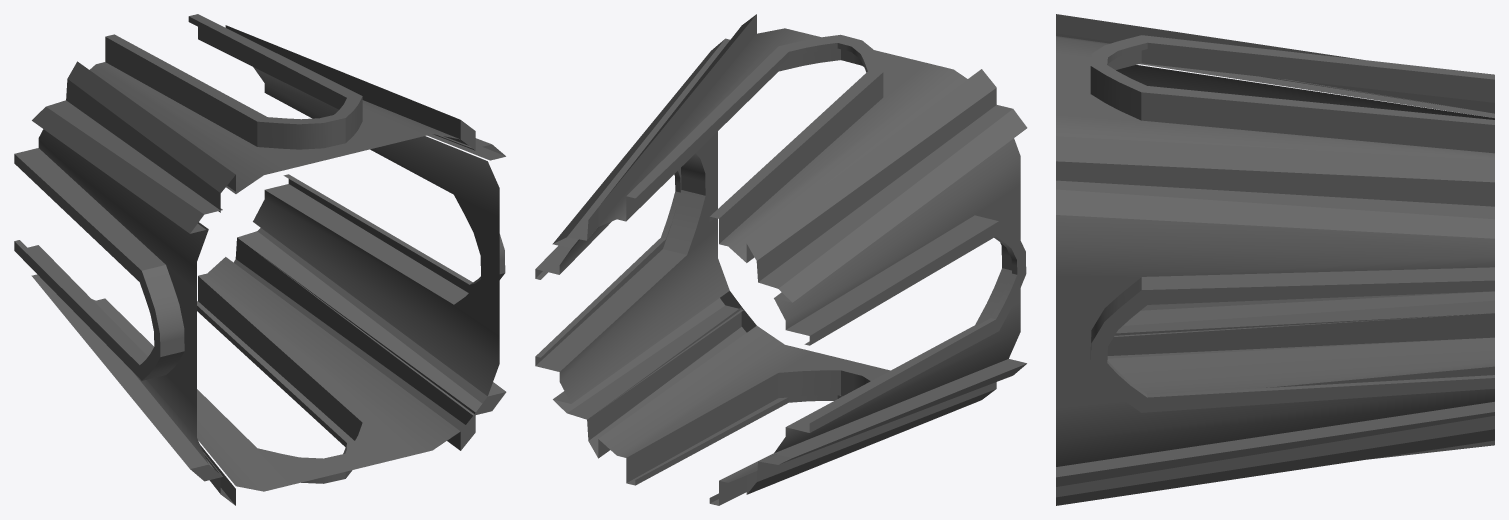
The model's file is chandelier_low_chandelier1_low_0_lev2.glb.
3 renders of one model, left to right at view 1: azimuth 30°, elevation 25°; view 2: azimuth 150°, elevation 25°; view 3: azimuth 270°, elevation 25°, orthographic. The views are drawn at different scales.
Visible parts, largest first — view 1: chandelier_low_chandelier1_low_0_lev2; view 2: chandelier_low_chandelier1_low_0_lev2; view 3: chandelier_low_chandelier1_low_0_lev2.
Boxes of the visible parts, box(x1,y1,x2,y2) form: chandelier_low_chandelier1_low_0_lev2: box(14, 14, 506, 505); chandelier_low_chandelier1_low_0_lev2: box(535, 14, 1027, 505); chandelier_low_chandelier1_low_0_lev2: box(1056, 14, 1494, 505).
Bounding box in the file's own units: 0.4333 × 0.4333 × 0.4281.
Materials: 1 (1 with a texture image).
